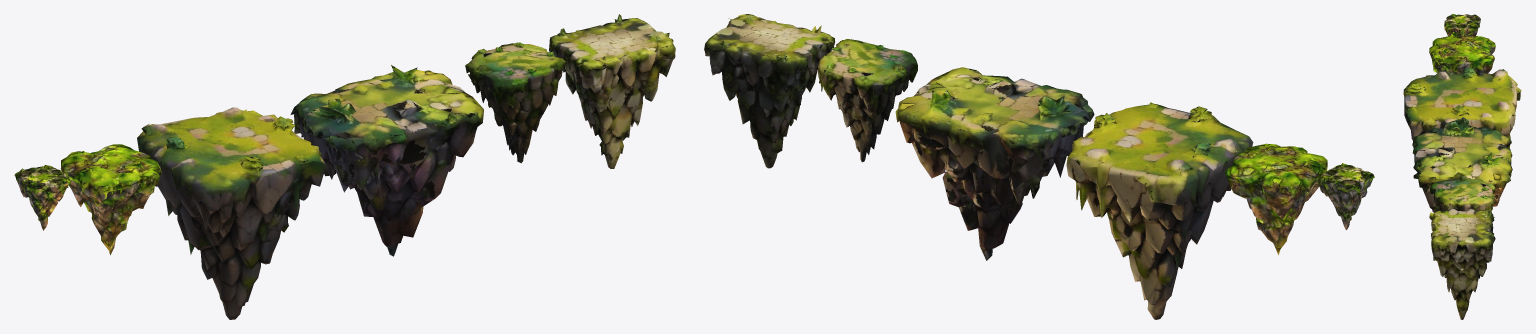
Rendered from inner_platform_kit.glb.
The picture shows the model from 3 angles, left to right: view 1: azimuth 30°, elevation 25°; view 2: azimuth 150°, elevation 25°; view 3: azimuth 270°, elevation 25°; orthographic projection. The views are drawn at different scales.
Visible parts, largest first — view 1: platform_large, platform_long, platform_bridge, platform_round, platform_medium, platform_small; view 2: platform_large, platform_long, platform_bridge, platform_round, platform_medium, platform_small; view 3: platform_large, platform_long, platform_bridge, platform_medium, platform_round, platform_small.
Boxes of the visible parts, x1=… form: platform_large: x1=137, y1=107, x2=326, y2=319; platform_long: x1=290, y1=65, x2=483, y2=256; platform_bridge: x1=549, y1=14, x2=675, y2=168; platform_round: x1=465, y1=42, x2=565, y2=163; platform_medium: x1=60, y1=144, x2=161, y2=255; platform_small: x1=14, y1=165, x2=71, y2=230; platform_large: x1=1066, y1=102, x2=1253, y2=319; platform_long: x1=895, y1=67, x2=1094, y2=260; platform_bridge: x1=704, y1=14, x2=834, y2=168; platform_round: x1=817, y1=39, x2=917, y2=162; platform_medium: x1=1225, y1=143, x2=1327, y2=255; platform_small: x1=1317, y1=163, x2=1374, y2=230; platform_large: x1=1403, y1=67, x2=1521, y2=148; platform_long: x1=1412, y1=117, x2=1512, y2=212; platform_bridge: x1=1429, y1=208, x2=1495, y2=319; platform_medium: x1=1429, y1=32, x2=1495, y2=75; platform_round: x1=1429, y1=176, x2=1495, y2=211; platform_small: x1=1444, y1=14, x2=1480, y2=36.
Size of the model in its own units: 32 by 9.12 by 7.02.
Materials: 1 (1 with a texture image).
